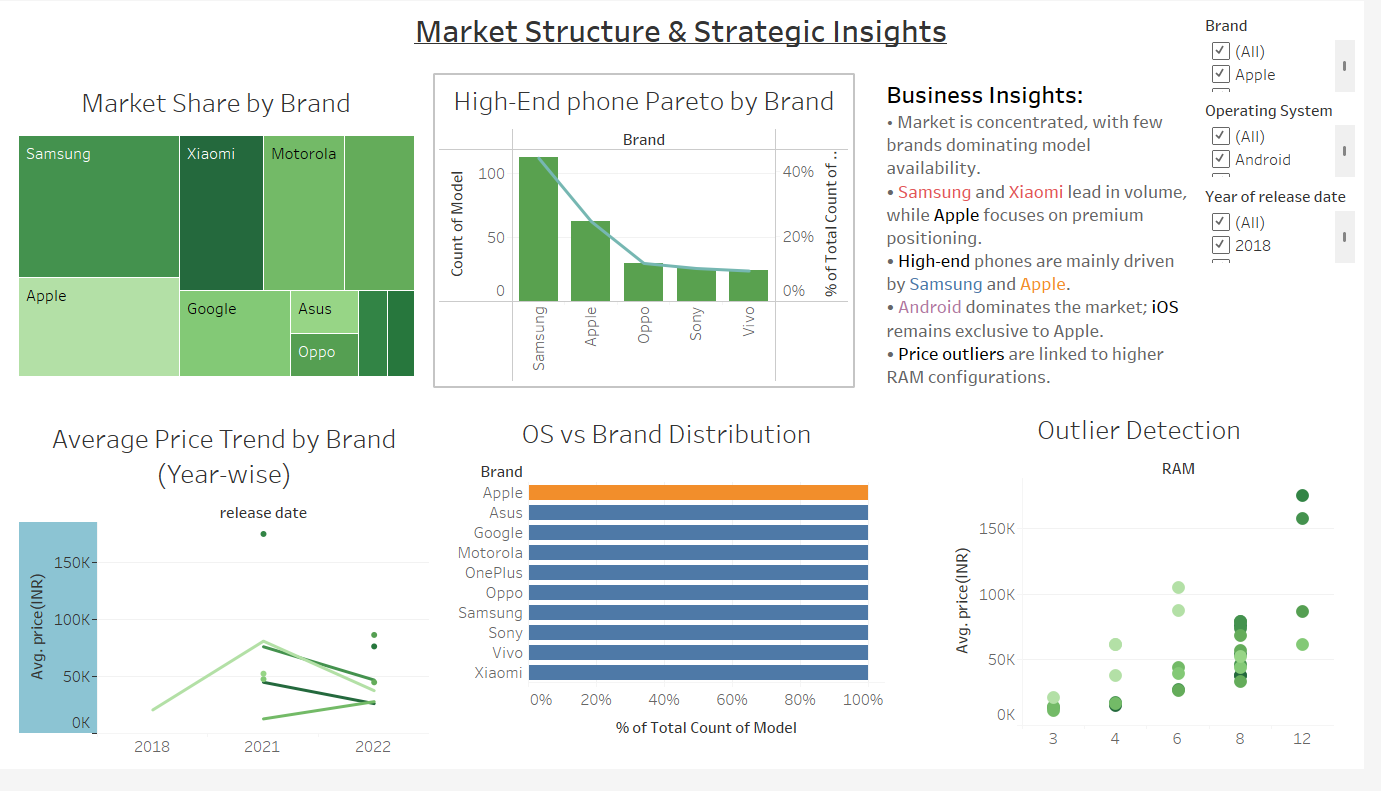

The dashboard page shown, as its layout file describes it:
{"tool":"tableau","page":{"name":"Market Structure & Strategic Insights","canvas":[1366,768],"ordinal":1},"visuals":[{"type":"title","box":[8,8,1350,42]},{"type":"filter","title":"Market Share by Brand","param":"[federated.1wcqira0z89lch0zod5me197oe4k].[none:brand:nk]","box":[1203,10,158,85.3]},{"type":"worksheet","title":"High-End phone Pareto","mark":"Bar","rows":["model","model"],"cols":["brand"],"box":[437,74,418,311]},{"type":"worksheet","title":"Market Share by Brand","mark":"Square","box":[12,76,412,307]},{"type":"text","box":[885,77,309,318]},{"type":"filter","title":"OS vs Brand Distribution","param":"[federated.1wcqira0z89lch0zod5me197oe4k].[none:operating system:nk]","box":[1203,95.3,158,85.3]},{"type":"filter","title":"Price Trend by Brand","param":"[federated.1wcqira0z89lch0zod5me197oe4k].[yr:release date:ok]","box":[1203,180.7,158,85.3]},{"type":"worksheet","title":"Outlier Detection","mark":"Circle","rows":["price(INR)"],"cols":["RAM"],"box":[942,403,398,350]},{"type":"worksheet","title":"OS vs Brand Distribution","mark":"Bar","rows":["brand"],"cols":["model"],"box":[446,407,445,364]},{"type":"worksheet","title":"Price Trend by Brand","mark":"Line","rows":["price(INR)"],"cols":["release date"],"box":[17,412,418,349]}]}

Visuals, with their boxes in screenshot pixels (x1, y1, x2, y2), scaled from the page's 1366x768 canvas onto the 1381x791 screenshot:
title: [left=8, top=8, right=1373, bottom=51]
"Market Share by Brand" filter: [left=1216, top=10, right=1376, bottom=98]
"High-End phone Pareto" worksheet (Bar marks): [left=442, top=76, right=864, bottom=397]
"Market Share by Brand" worksheet (Square marks): [left=12, top=78, right=429, bottom=394]
text: [left=895, top=79, right=1207, bottom=407]
"OS vs Brand Distribution" filter: [left=1216, top=98, right=1376, bottom=186]
"Price Trend by Brand" filter: [left=1216, top=186, right=1376, bottom=274]
"Outlier Detection" worksheet (Circle marks): [left=952, top=415, right=1355, bottom=776]
"OS vs Brand Distribution" worksheet (Bar marks): [left=451, top=419, right=901, bottom=790]
"Price Trend by Brand" worksheet (Line marks): [left=17, top=424, right=440, bottom=784]
